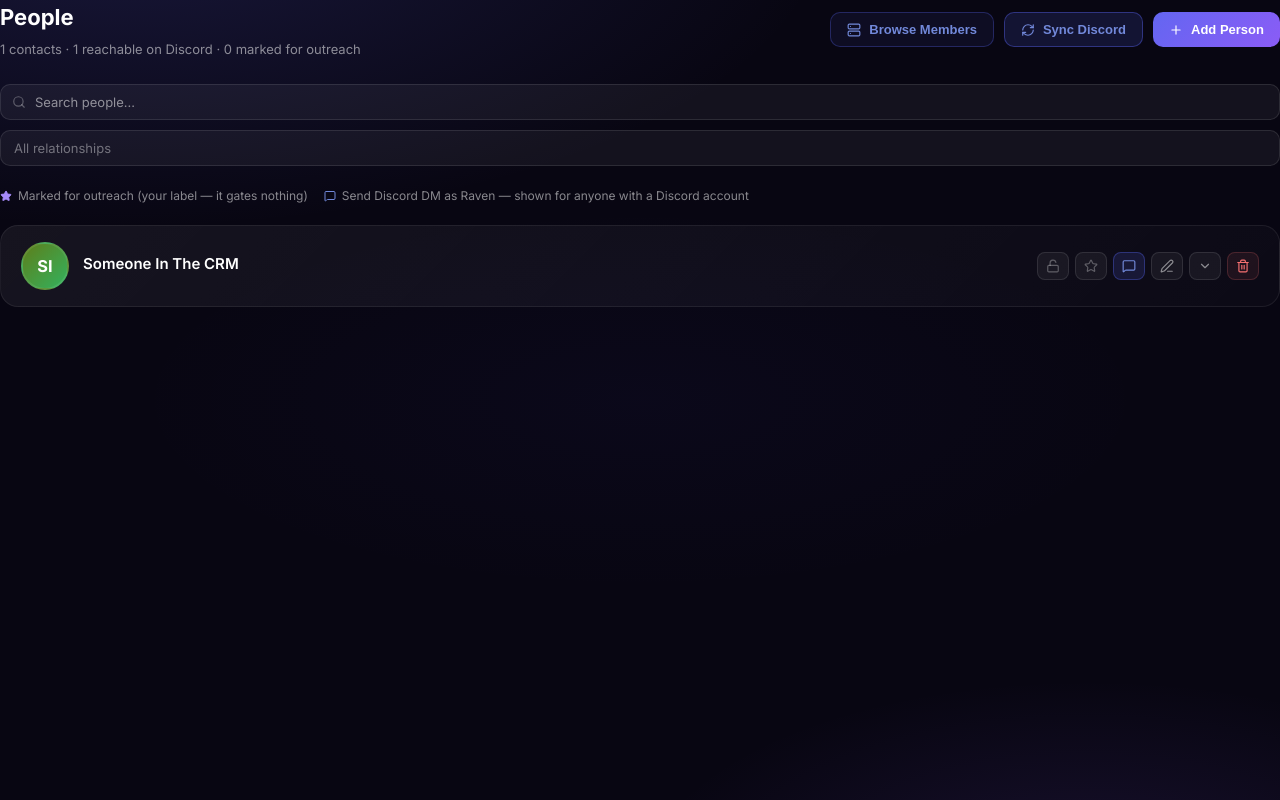
it: GuildPickerModal — someone already in the CRM › matches on Discord id, not on name
Step 1. Click the button "Browse Members" → (912, 30), box [830,12,994,48]
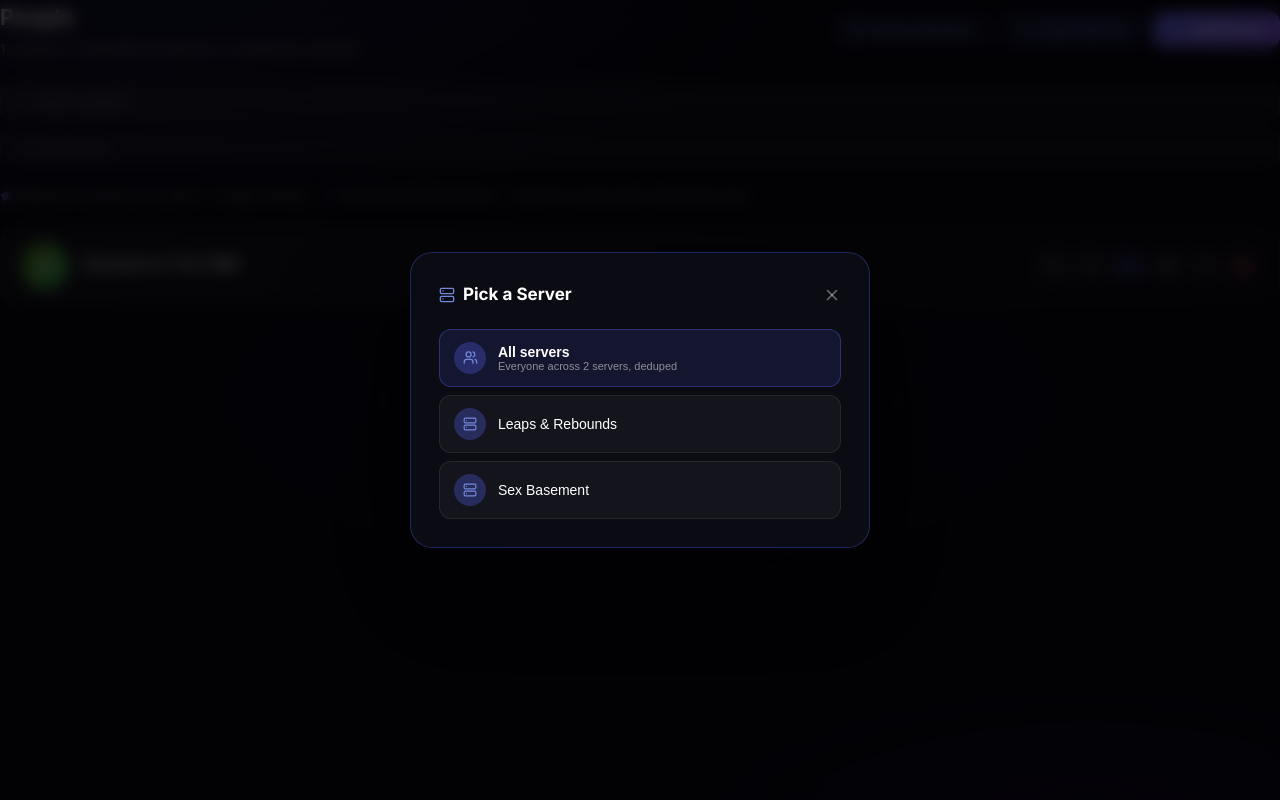
Step 2. Click the text "All servers" → (534, 352), box [498,344,570,360]
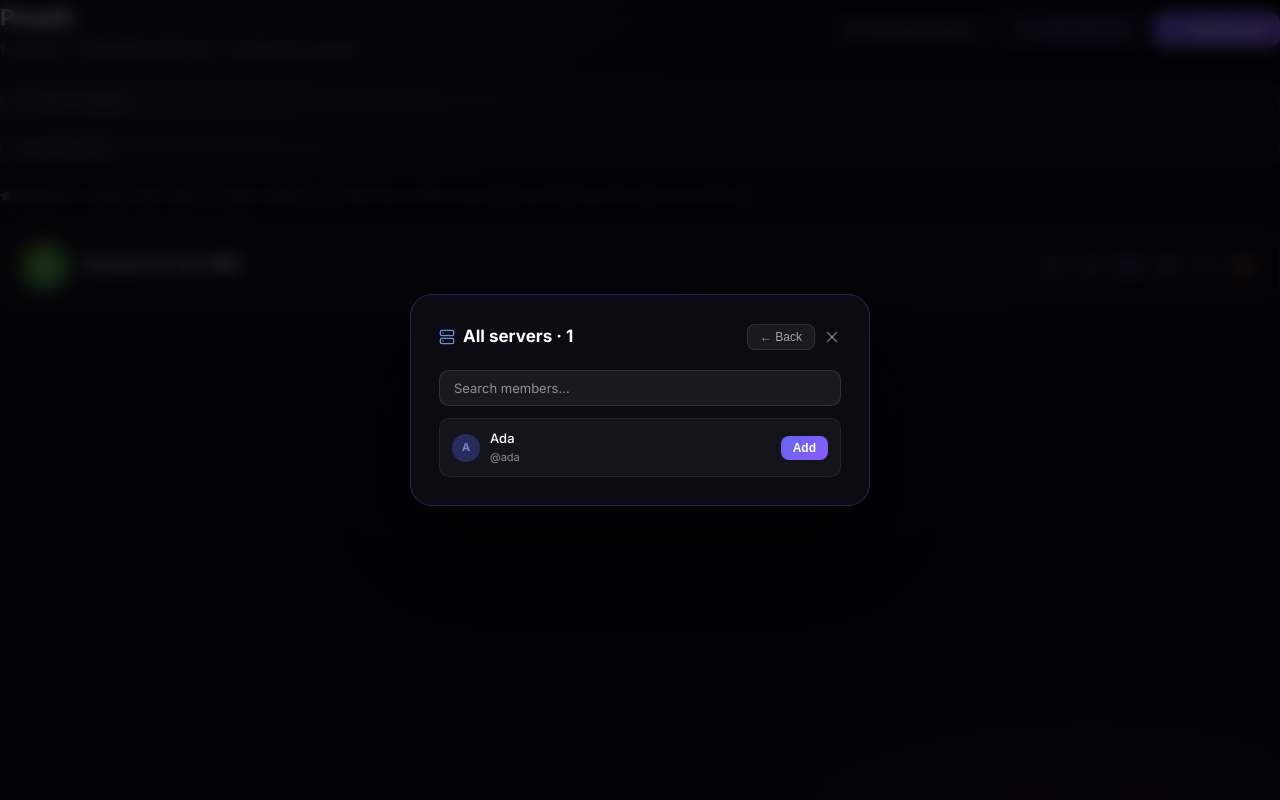
Check: the number of buttons "Add" is 1, box [781,436,828,460]
